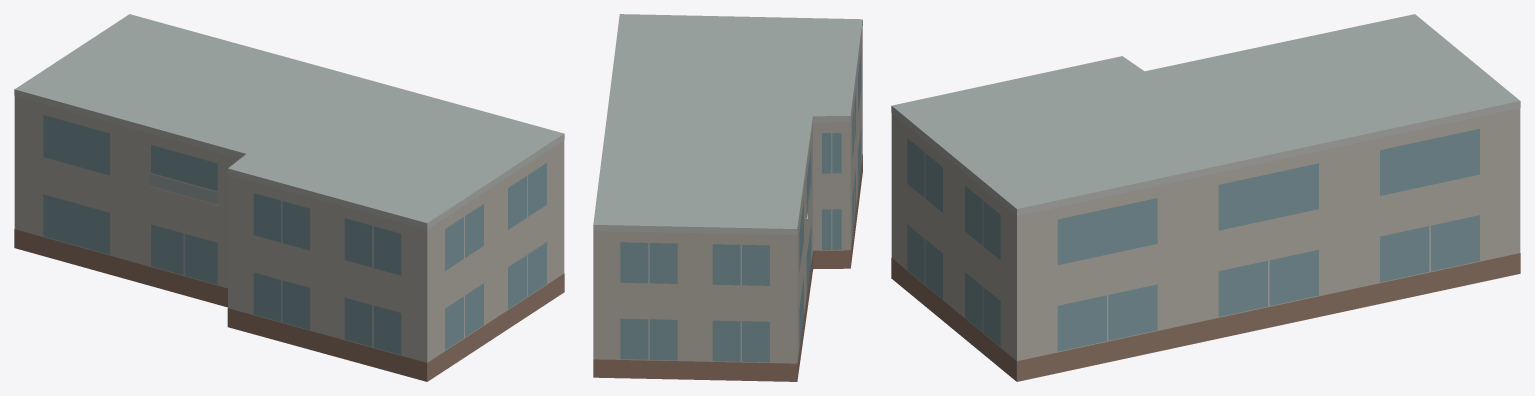
File: survey-upis-32891707.glb
3 views of the same model, side by side, from view 1: azimuth 30°, elevation 25°; view 2: azimuth 150°, elevation 25°; view 3: azimuth 270°, elevation 25° (orthographic). The views are drawn at different scales.
Parts seen in each view (by area): view 1: survey-upis-32891707.tmp; view 2: survey-upis-32891707.tmp; view 3: survey-upis-32891707.tmp.
Boxes of the visible parts, box(x1,y1,x2,y2) form: survey-upis-32891707.tmp: box(14, 14, 564, 381); survey-upis-32891707.tmp: box(593, 14, 862, 381); survey-upis-32891707.tmp: box(891, 14, 1520, 381).
Bounding box in the file's own units: 14.78 × 6.1 × 20.13.
